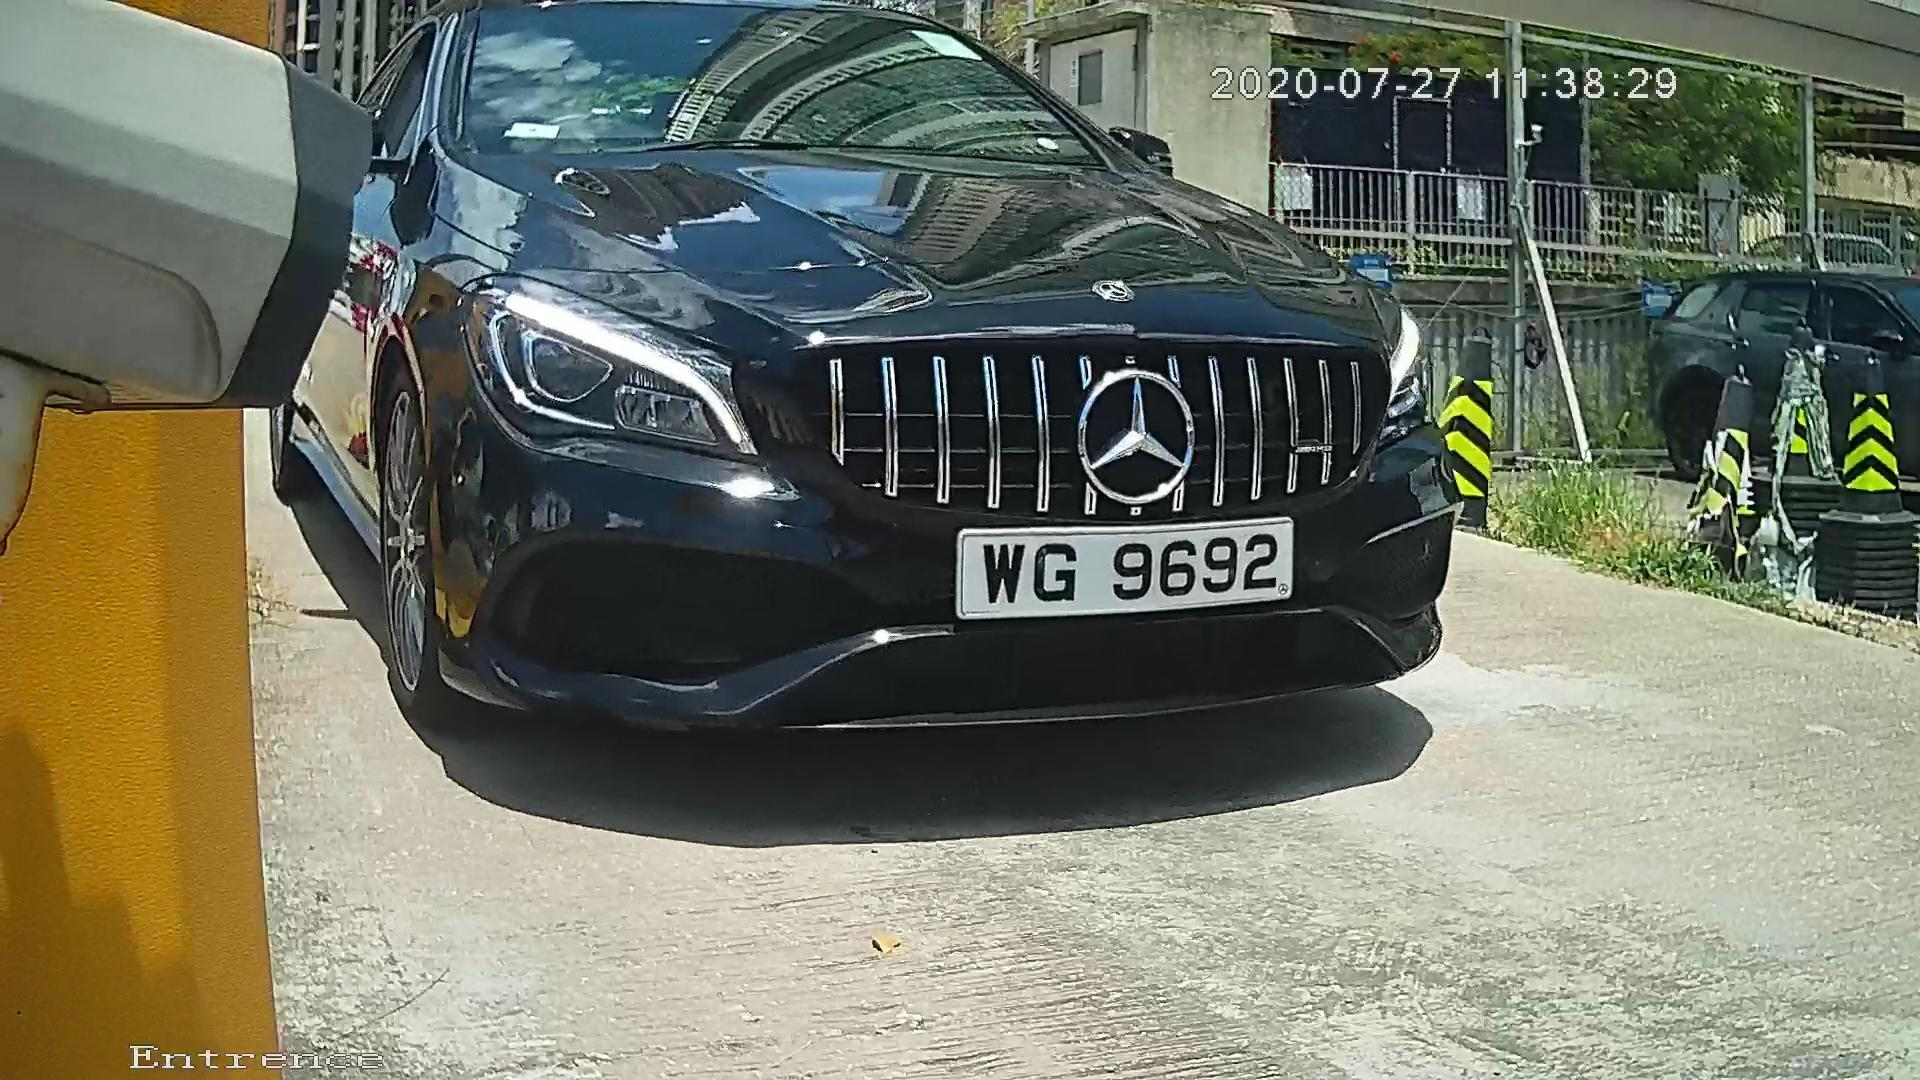License Plate: (935, 502, 1303, 627)
